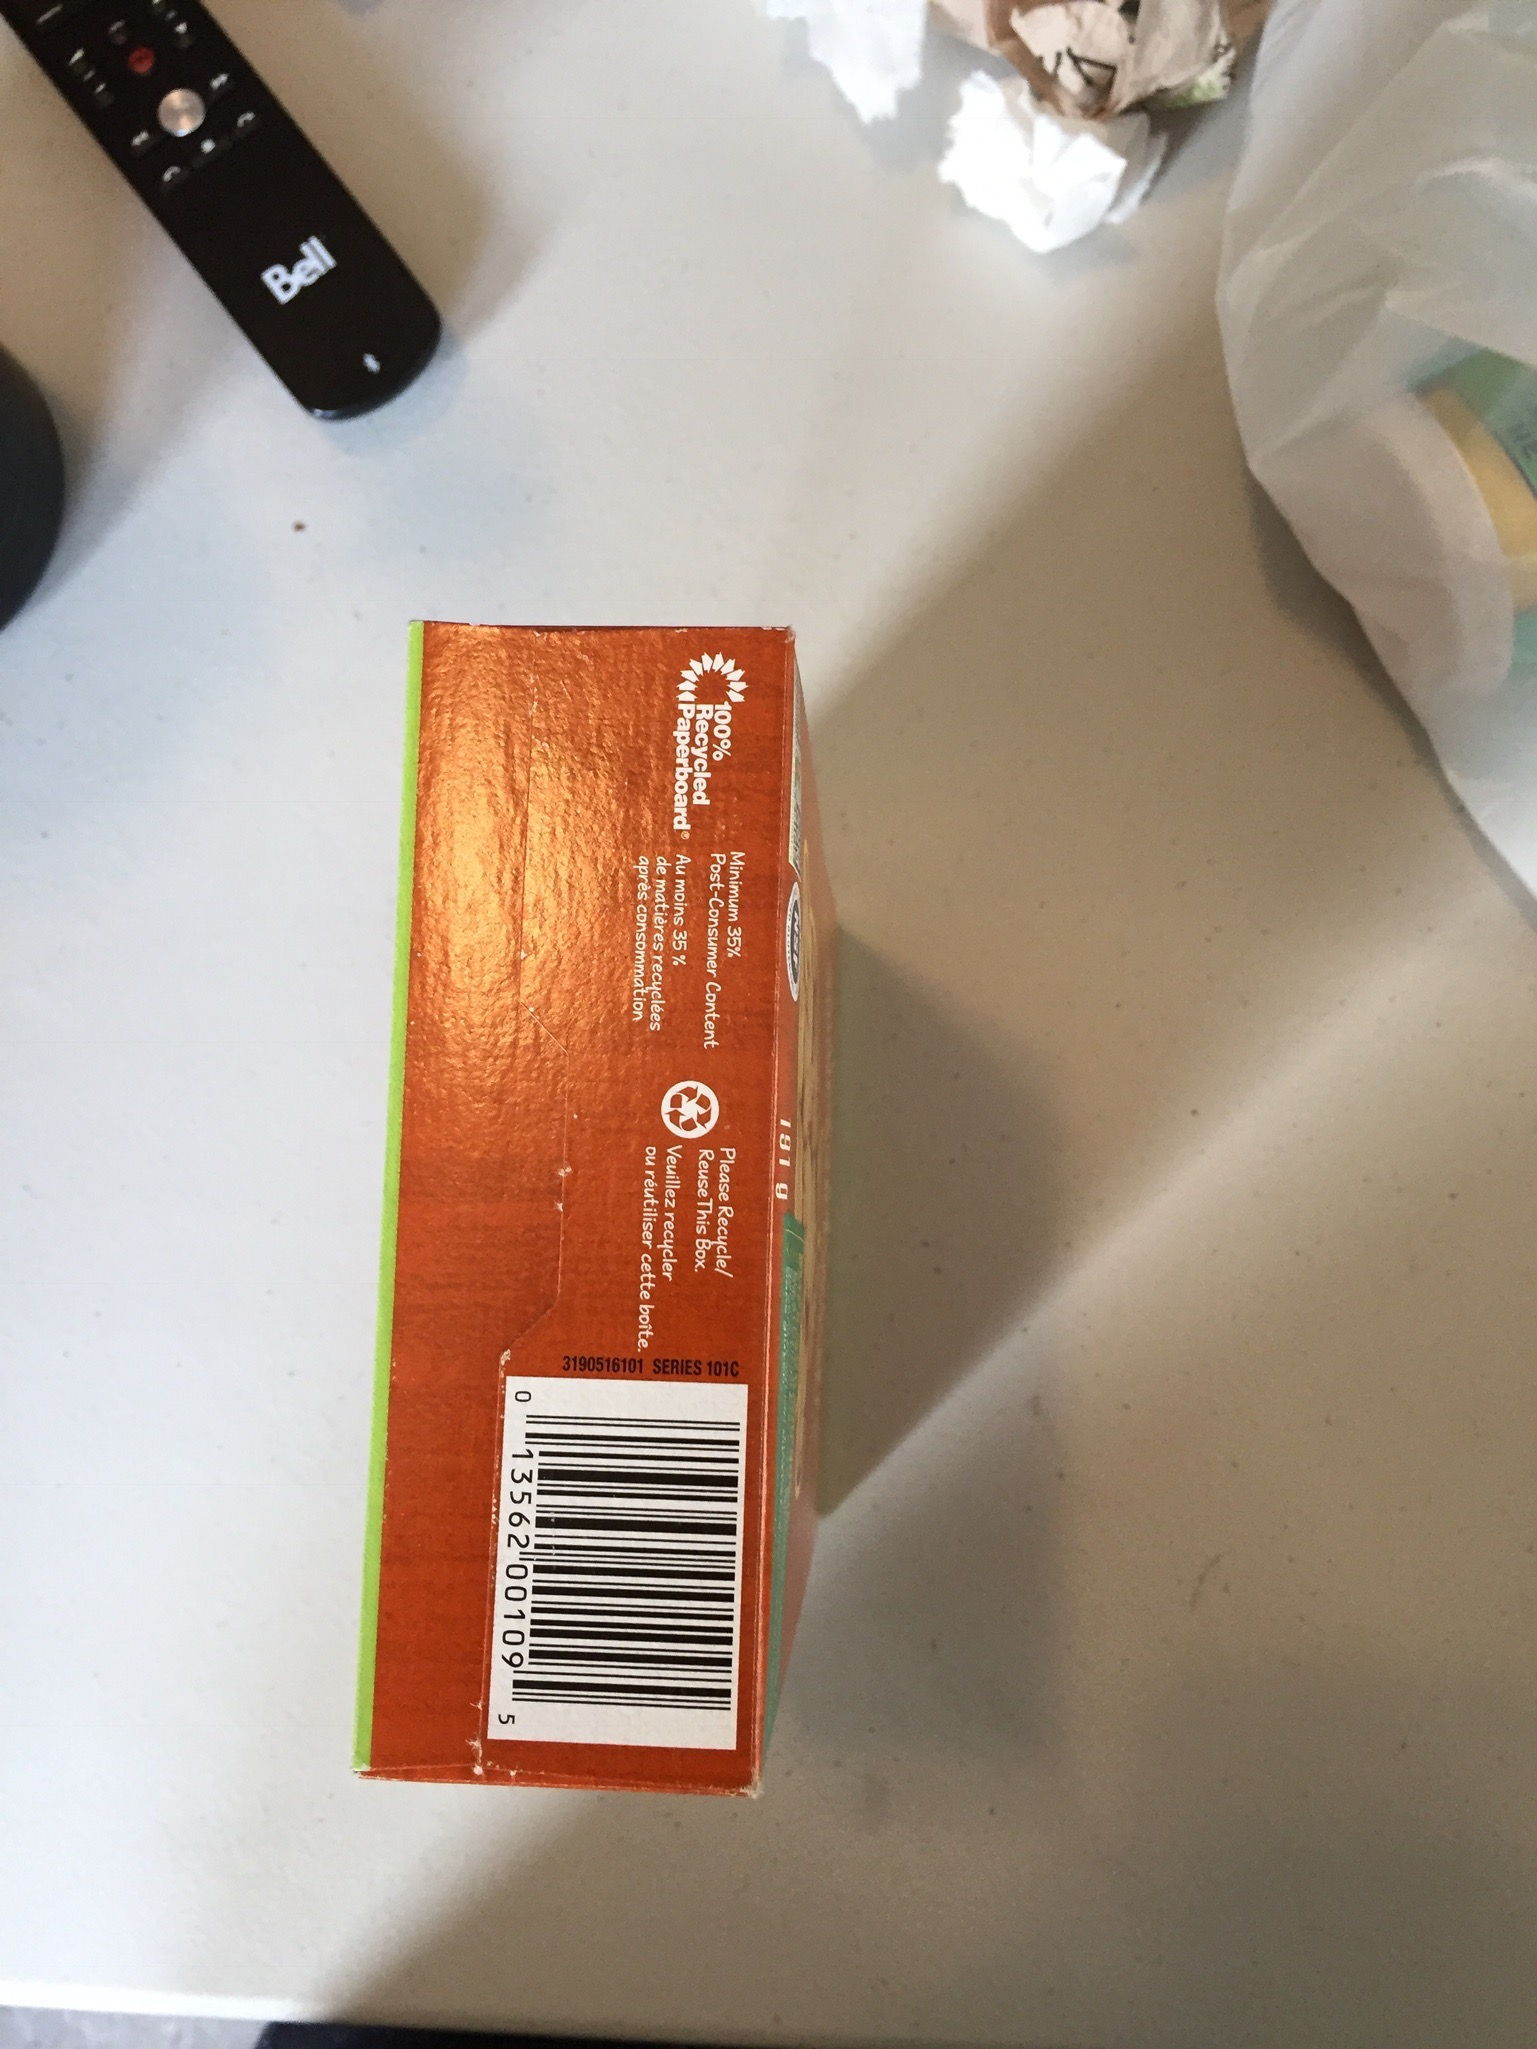annies_snickerdoodles_cinnamon_sugar: (418, 626, 765, 1776)
